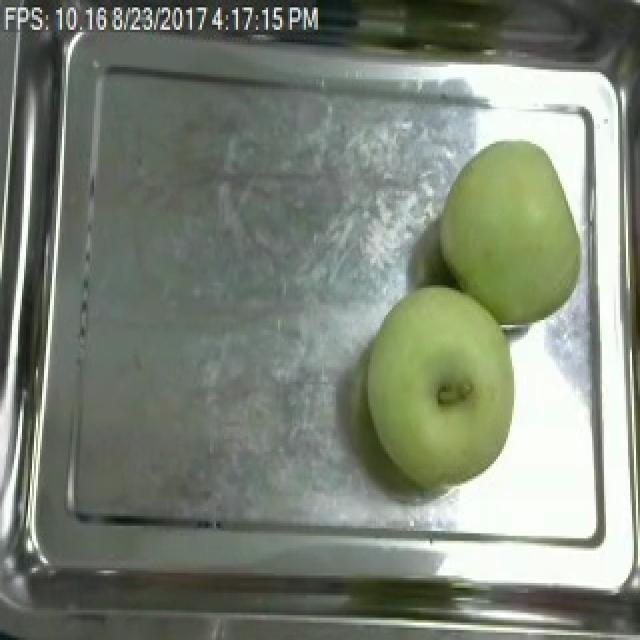50-_ripeness: (438, 120, 590, 330), (368, 282, 521, 488)
